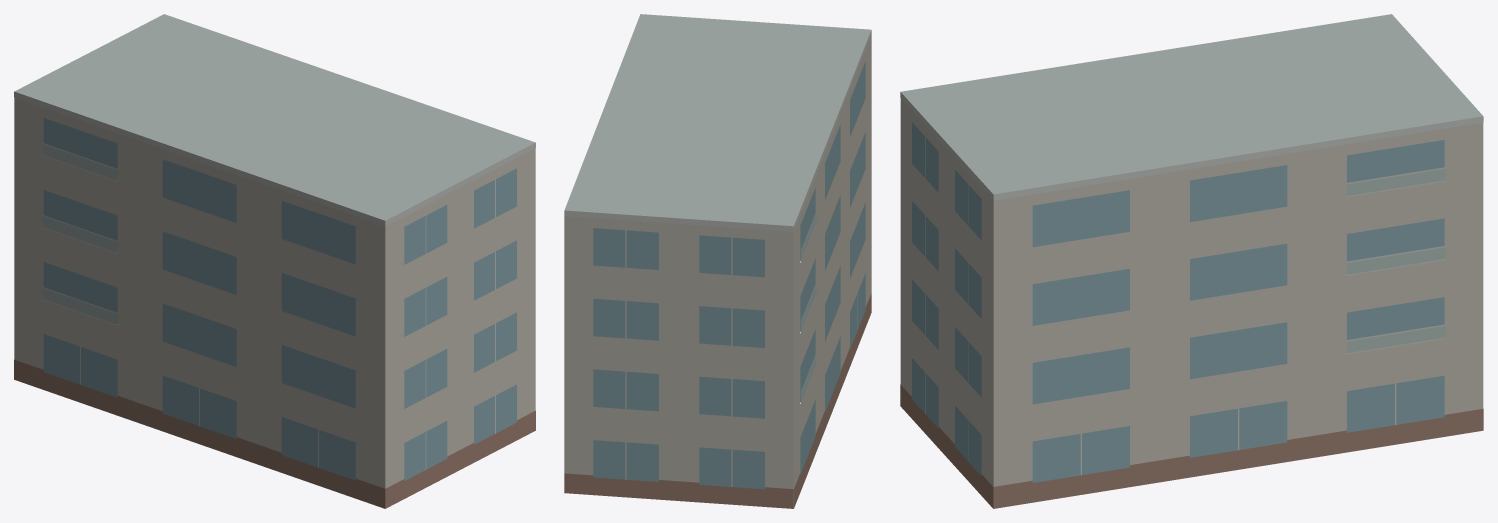
Rendered from survey-upis-32584551.glb.
The picture shows the model from 3 angles, left to right: view 1: azimuth 30°, elevation 25°; view 2: azimuth 150°, elevation 25°; view 3: azimuth 270°, elevation 25°; orthographic projection. The views are drawn at different scales.
Visible parts, largest first — view 1: survey-upis-32584551.tmp; view 2: survey-upis-32584551.tmp; view 3: survey-upis-32584551.tmp.
Part boxes in pixels (<box>): survey-upis-32584551.tmp: <box>14,14,535,508</box>; survey-upis-32584551.tmp: <box>564,14,871,508</box>; survey-upis-32584551.tmp: <box>900,14,1483,508</box>.
Bounding box in the file's own units: 15.2 × 12.34 × 20.75.
